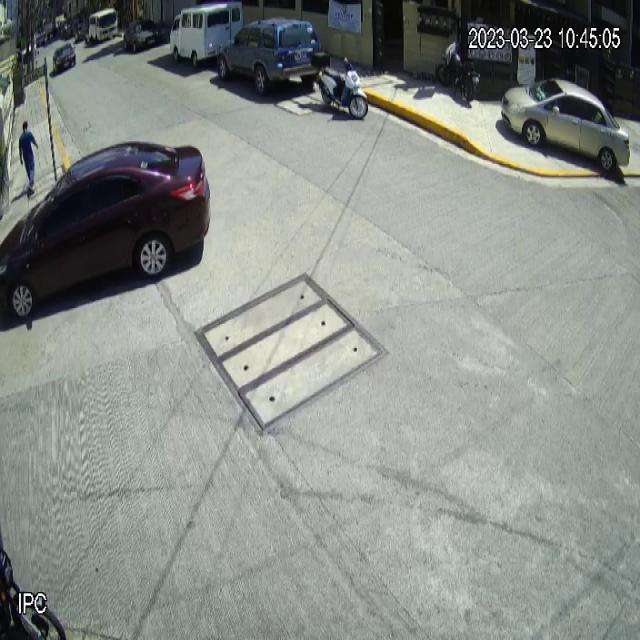Car: (0, 136, 212, 324), (500, 76, 631, 177), (216, 17, 320, 96)
Motorcycle: (311, 50, 369, 121)
Van: (169, 0, 243, 68)
